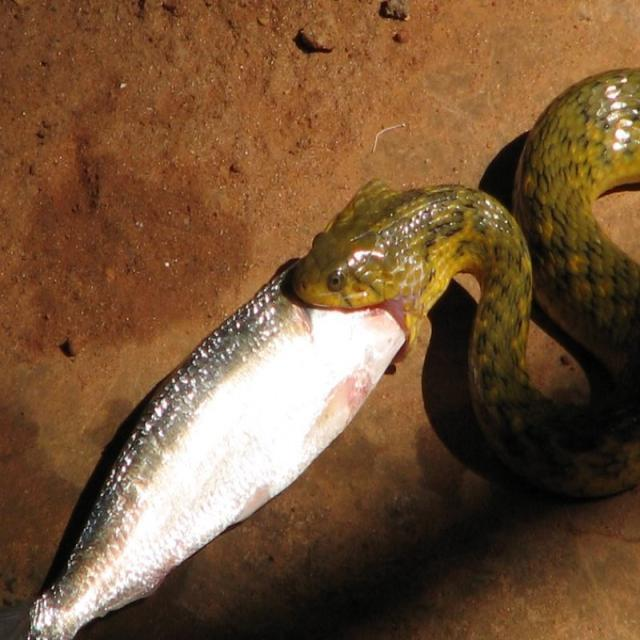Snake: (290, 65, 640, 500)
